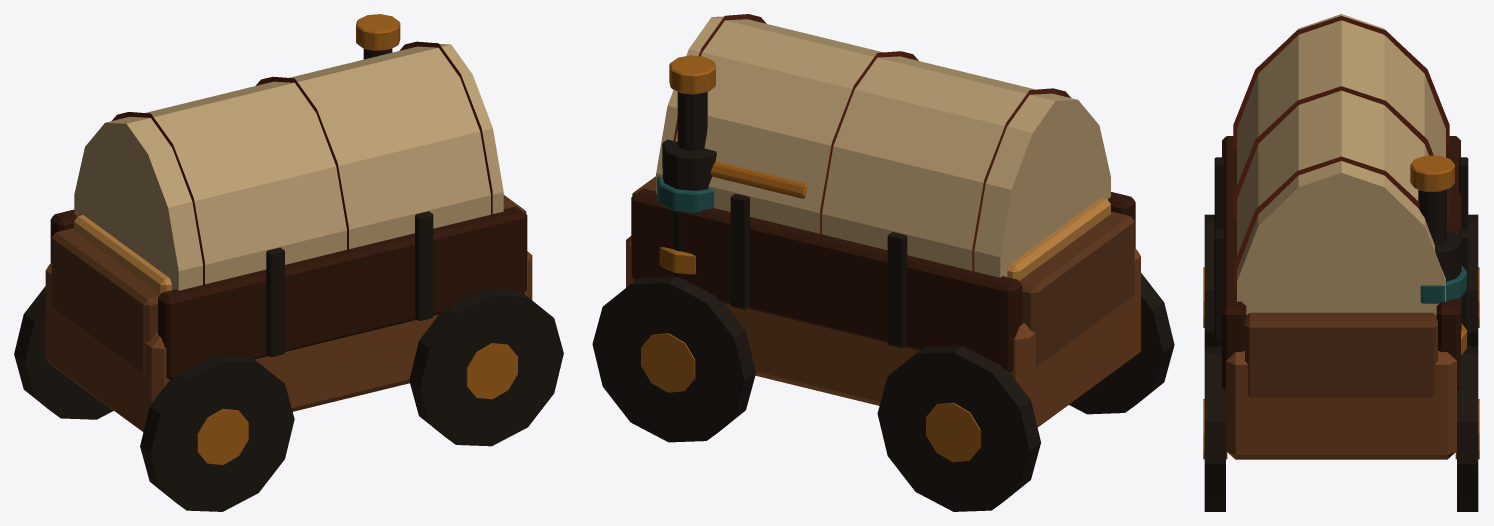
The model's file is covered_wagon.e2.glb.
3 renders of one model, left to right at view 1: azimuth 30°, elevation 25°; view 2: azimuth 150°, elevation 25°; view 3: azimuth 270°, elevation 25°, orthographic. The views are drawn at different scales.
Parts seen in each view (by area): view 1: CoveredWagonE2; view 2: CoveredWagonE2; view 3: CoveredWagonE2.
Part boxes in pixels (<box>): CoveredWagonE2: <box>14,14,563,511</box>; CoveredWagonE2: <box>592,14,1174,511</box>; CoveredWagonE2: <box>1203,14,1479,511</box>.
Bounding box in the file's own units: 1.78 × 1.44 × 1.03.
Materials: 1 (1 with a texture image).
